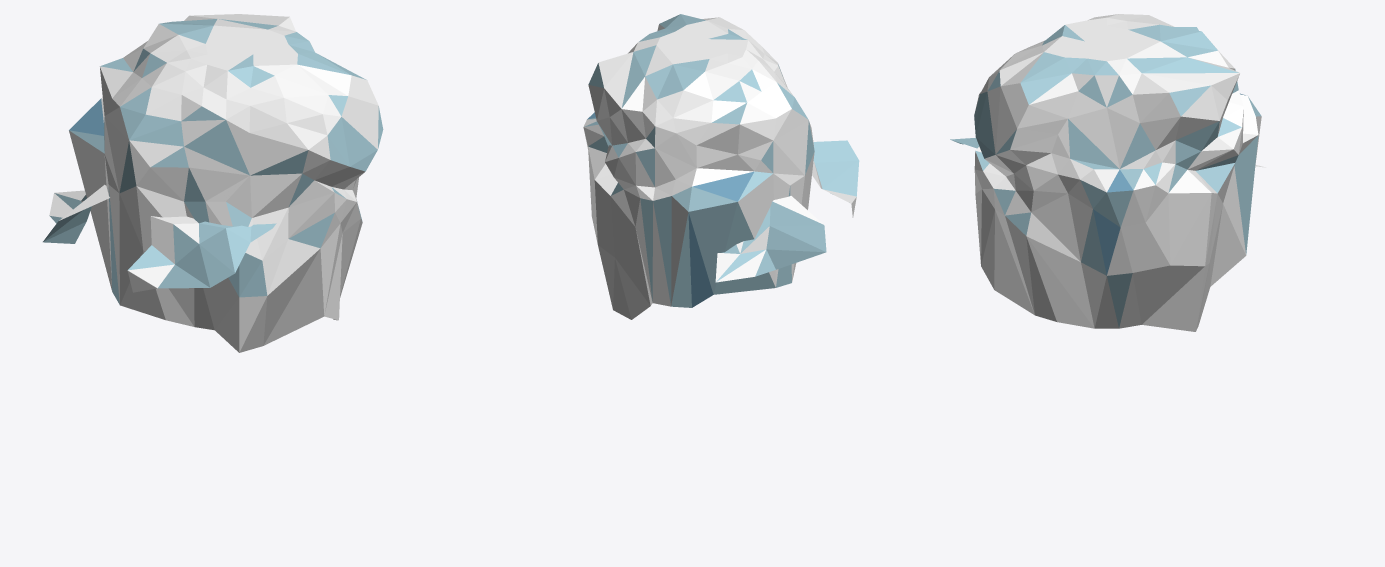
The model's file is terrainCliff2 1.fbx.
3 views of the same model, side by side, from view 1: azimuth 30°, elevation 25°; view 2: azimuth 150°, elevation 25°; view 3: azimuth 270°, elevation 25° (orthographic). The views are drawn at different scales.
Visible parts, largest first — view 1: topRock, bottomRock; view 2: topRock, bottomRock; view 3: topRock.
Boxes of the visible parts, <box> form: topRock: <box>69,14,383,352</box>; bottomRock: <box>43,184,276,292</box>; topRock: <box>583,14,814,319</box>; bottomRock: <box>715,140,859,282</box>; topRock: <box>974,14,1261,331</box>.
Bounding box in the file's own units: 6812 × 8165 × 7881.
Materials: 1 (1 with a texture image).
